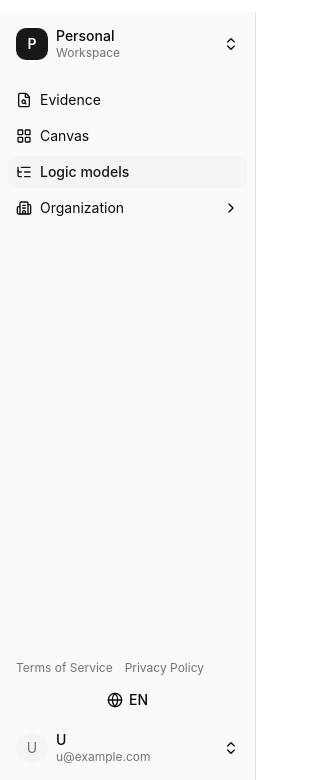
Test case: AppSidebar › keeps Organization collapsed elsewhere until it is opened
Expected: the link "Settings" is not shown
Click the button "Organization" at (128, 208), box [8, 192, 247, 224]
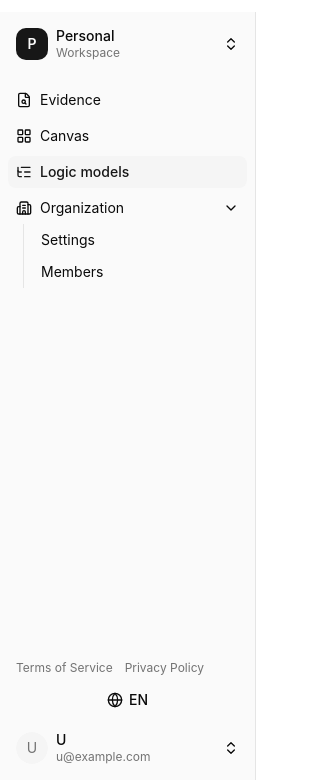
Expected: the link "Settings" is shown, [41, 231, 95, 248]
